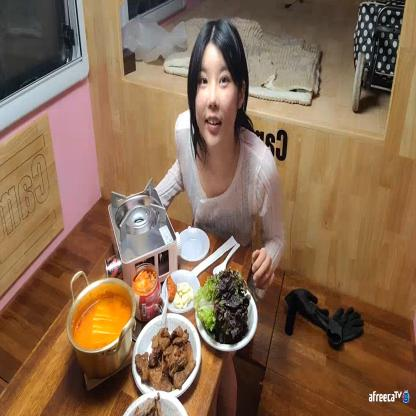streamer: (141, 20, 286, 290)
